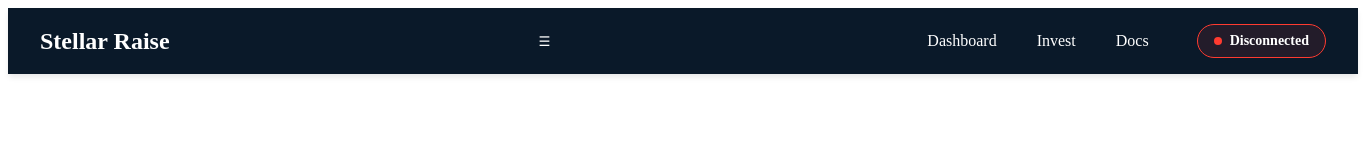
Test case: 3. Mobile Menu Toggle – State › 3.5 clicking toggle again closes the menu: aria-expanded returns "false"
This screenshot has width=1366, height=160.
What coordinates should you click on to do the following:
click the button named "toggle navigation menu"
I would click on:
 (544, 41)
Its box is [530,26,558,56].
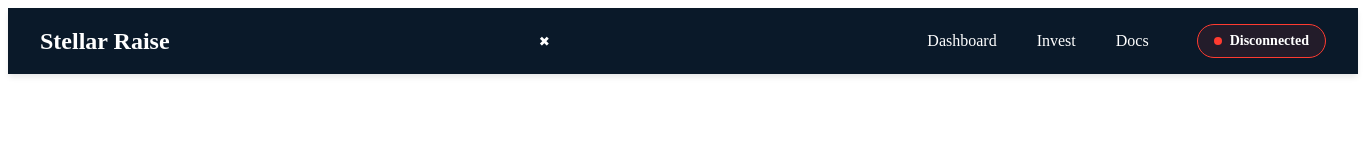
What coordinates should you click on to do the following:
click the button named "toggle navigation menu"
I would click on:
 (544, 41)
Its box is [531,26,558,56].
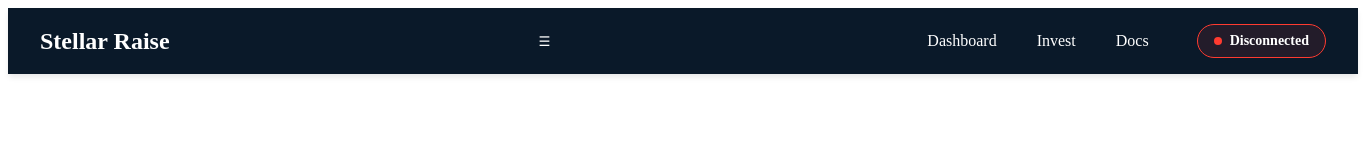
Expected: the button named "toggle navigation menu" is collapsed, [530,26,558,56]
